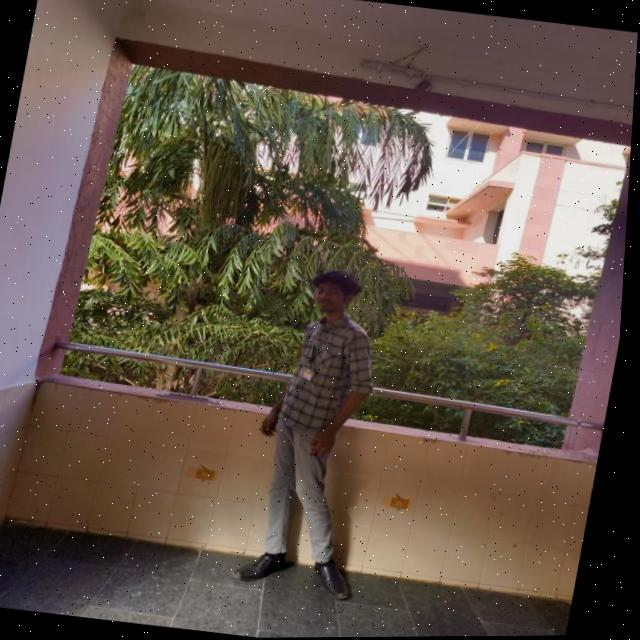id_card: (300, 319, 333, 387)
